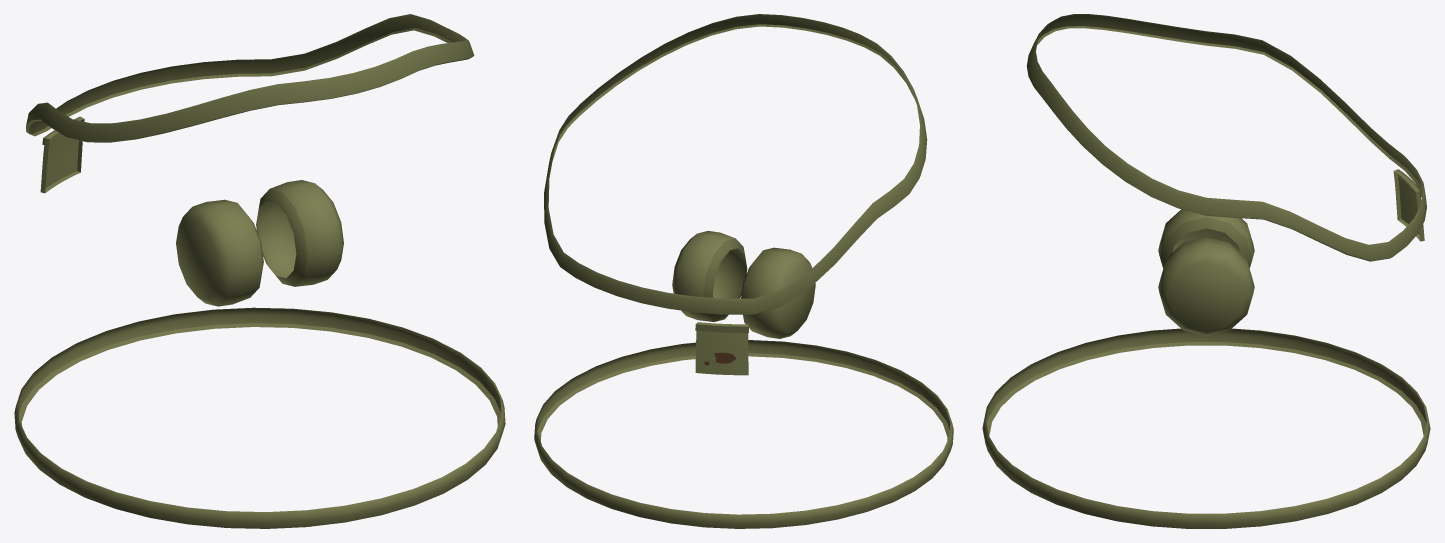
Rendered from cos_u_workshirt.glb.
The picture shows the model from 3 angles, left to right: view 1: azimuth 30°, elevation 25°; view 2: azimuth 150°, elevation 25°; view 3: azimuth 270°, elevation 25°; orthographic projection. The views are drawn at different scales.
Visible parts, largest first — view 1: u_workshirt, u_workshirt_cuff_R, u_workshirt_cuff_L; view 2: u_workshirt, u_workshirt_cuff_L, u_workshirt_cuff_R; view 3: u_workshirt, u_workshirt_cuff_L, u_workshirt_cuff_R.
Part boxes in pixels (x1,y1,x2,y2): u_workshirt: (14,14,505,528); u_workshirt_cuff_R: (176,199,263,306); u_workshirt_cuff_L: (256,180,343,286); u_workshirt: (534,14,953,528); u_workshirt_cuff_L: (672,231,747,321); u_workshirt_cuff_R: (741,247,815,338); u_workshirt: (982,14,1430,528); u_workshirt_cuff_L: (1158,237,1254,335); u_workshirt_cuff_R: (1158,209,1254,268).
Size of the model in its own units: 1.05 by 0.996 by 1.05.
